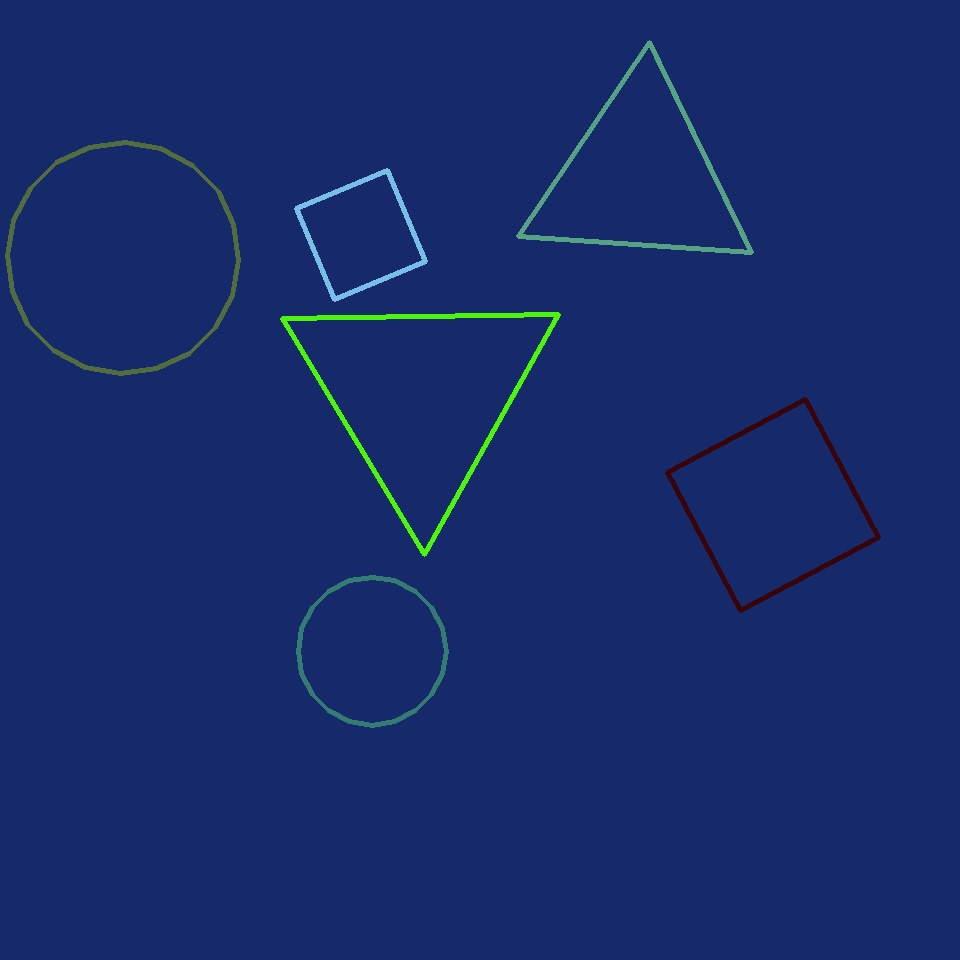circle: (284, 276, 560, 516), (524, 72, 756, 282)
square: (668, 400, 878, 610), (296, 170, 426, 300)
triangle: (7, 142, 238, 374), (298, 577, 446, 725)
